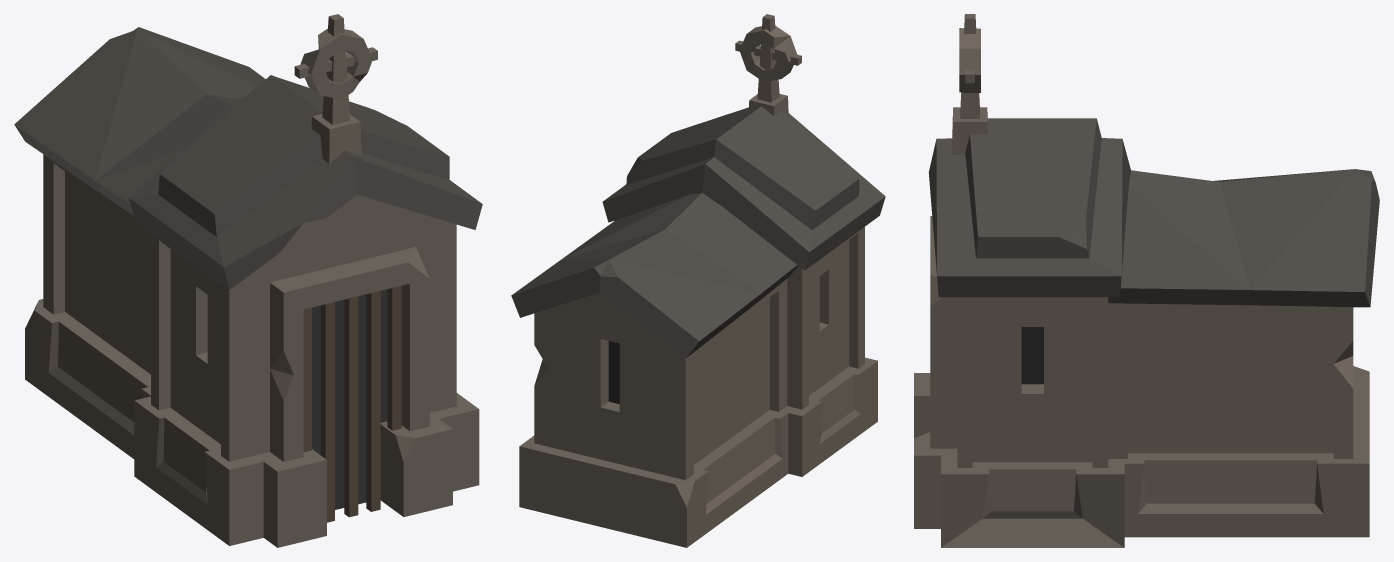
The model's file is SM_Prop_Grave_05.glb.
3 renders of one model, left to right at view 1: azimuth 30°, elevation 25°; view 2: azimuth 150°, elevation 25°; view 3: azimuth 270°, elevation 25°, orthographic. The views are drawn at different scales.
Parts seen in each view (by area): view 1: SM_Prop_Grave_05; view 2: SM_Prop_Grave_05; view 3: SM_Prop_Grave_05.
Part boxes in pixels (x1,y1,x2,y2): SM_Prop_Grave_05: (14, 14, 482, 547); SM_Prop_Grave_05: (511, 14, 885, 547); SM_Prop_Grave_05: (914, 14, 1379, 547).
Bounding box in the file's own units: 0.0234 × 0.0421 × 0.0377.
